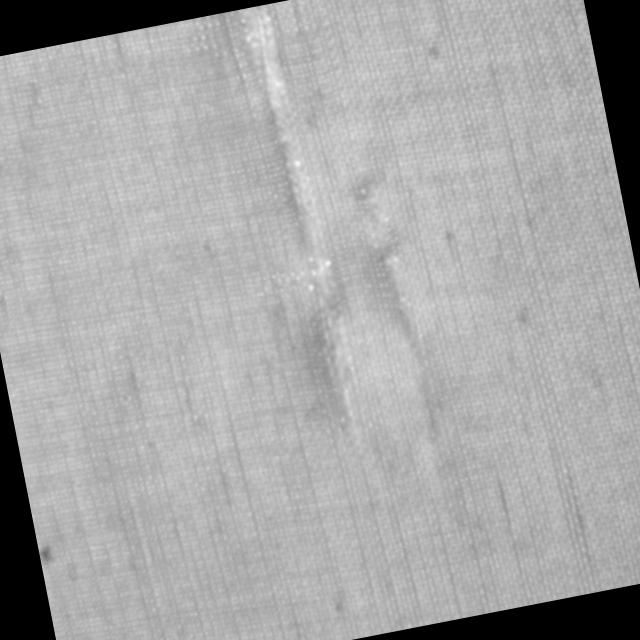thread error: (203, 0, 380, 459), (337, 158, 462, 448)
